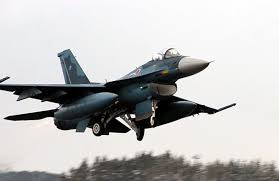fighter: (1, 44, 242, 142)
